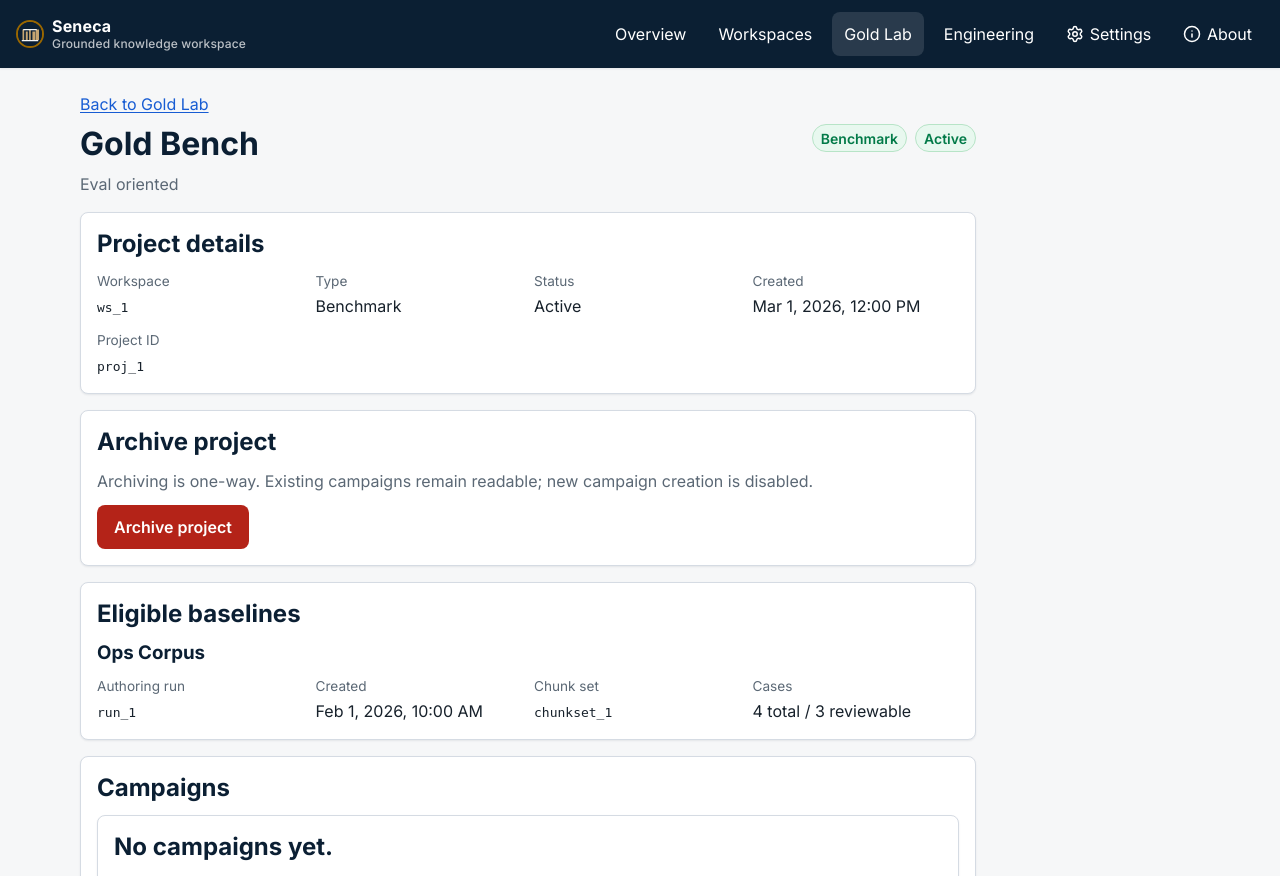
Scenario: 16G-I1 archive, baselines, campaign create › surfaces archive conflict instead of faking success
What coordinates should you click on to do the following:
click the button "Archive project"
I would click on:
 (173, 527)
Its box is [97,505,249,549].
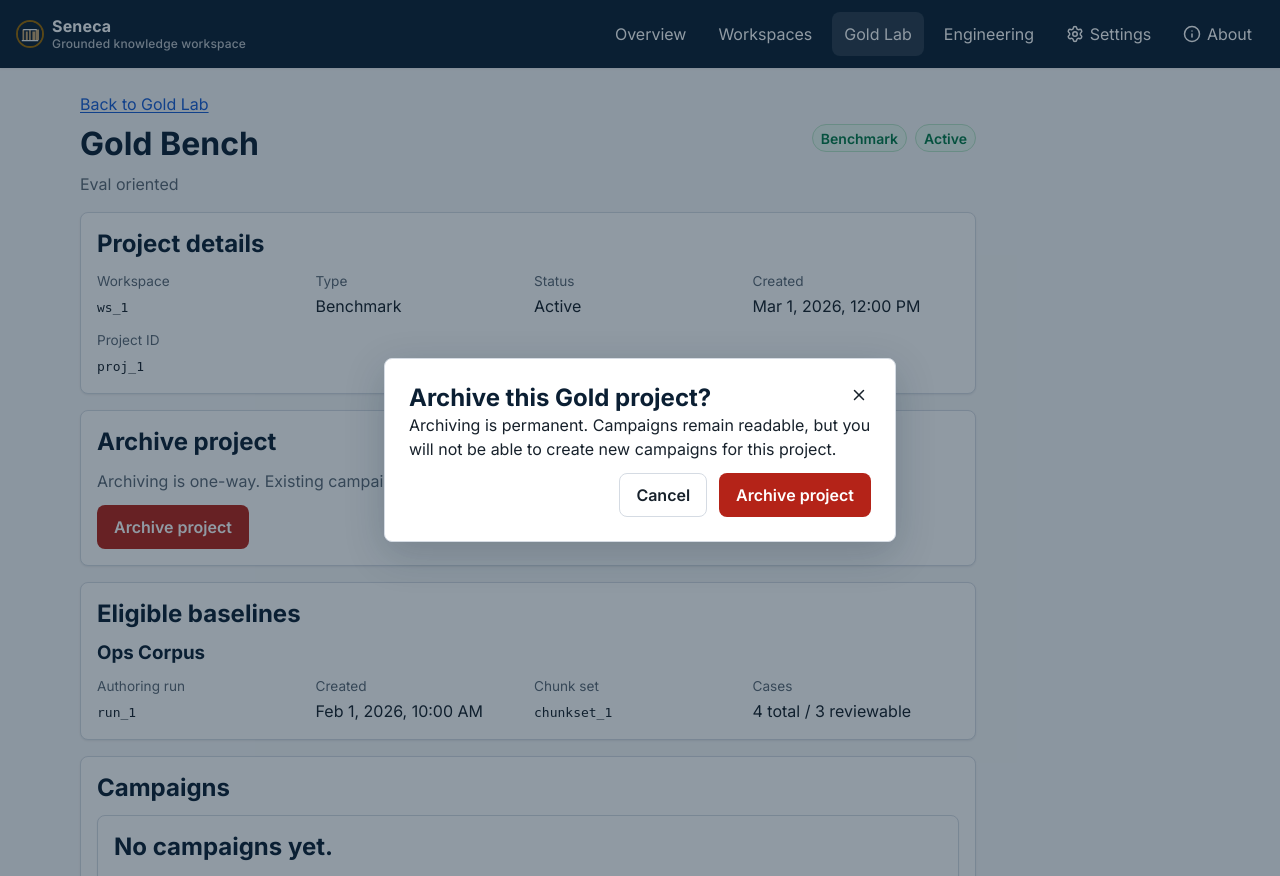
What coordinates should you click on to do the following:
click the button "Archive project"
I would click on:
 (795, 495)
Its box is [719,473,871,517].
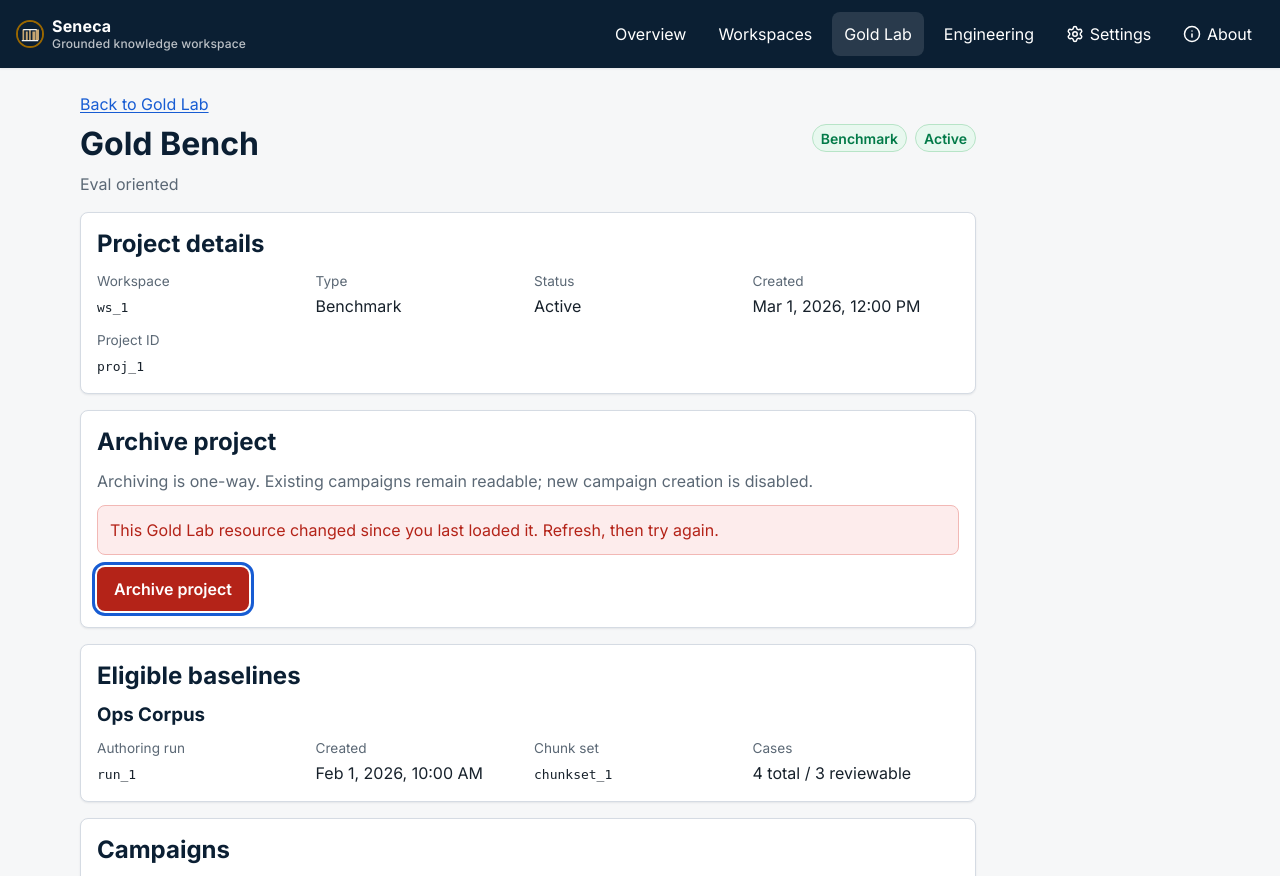
Expected: the message shows "changed since", [110,520,719,540]
